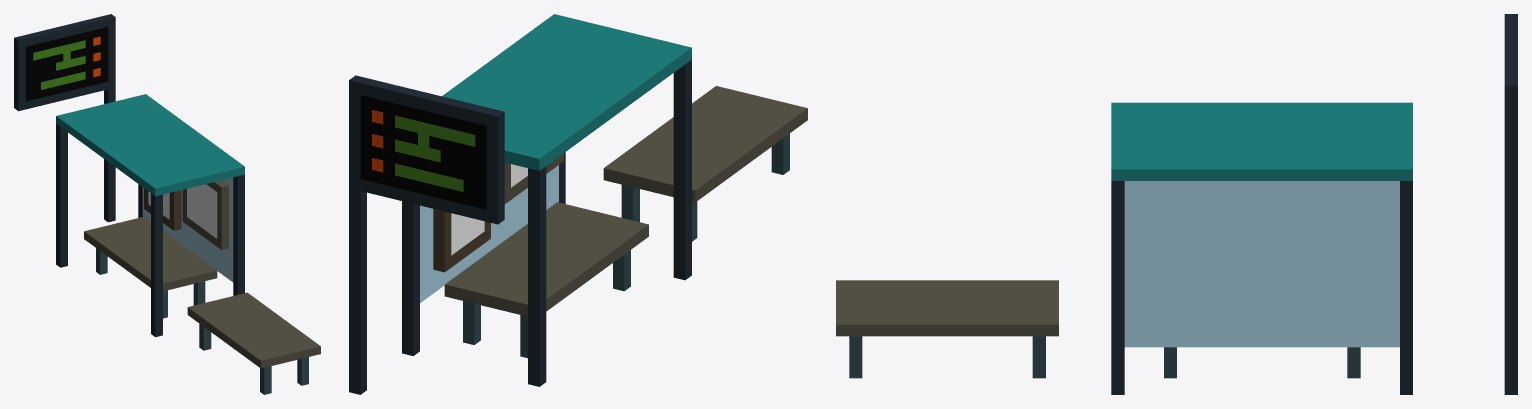
File: railway_stop.obj
3 renders of one model, left to right at view 1: azimuth 30°, elevation 25°; view 2: azimuth 150°, elevation 25°; view 3: azimuth 270°, elevation 25°, orthographic. The views are drawn at different scales.
Bounding box in the file's own units: 1.3 × 2.6 × 5.2.
1 material, 1 textured.
